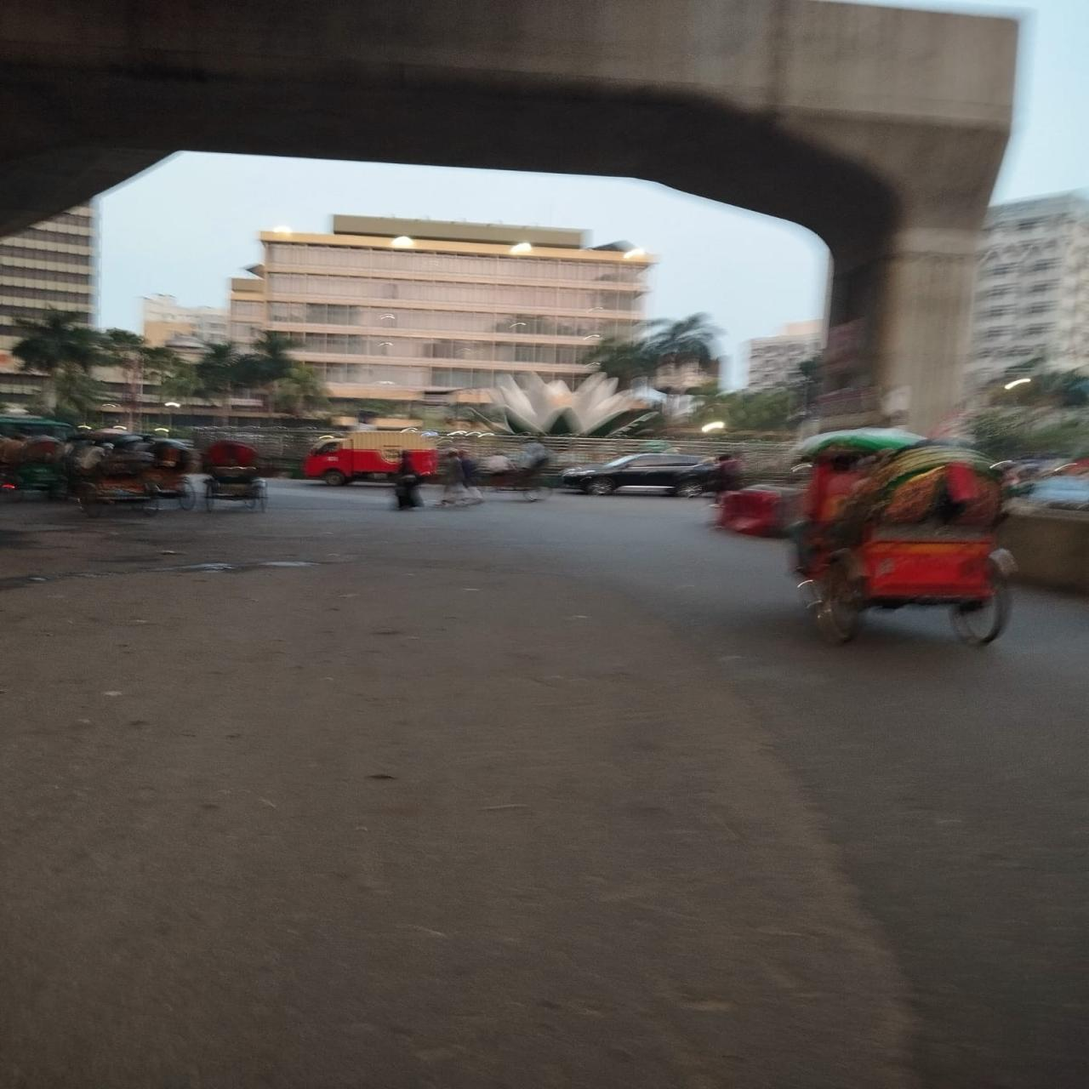person: (436, 443, 481, 512), (388, 442, 422, 510)
